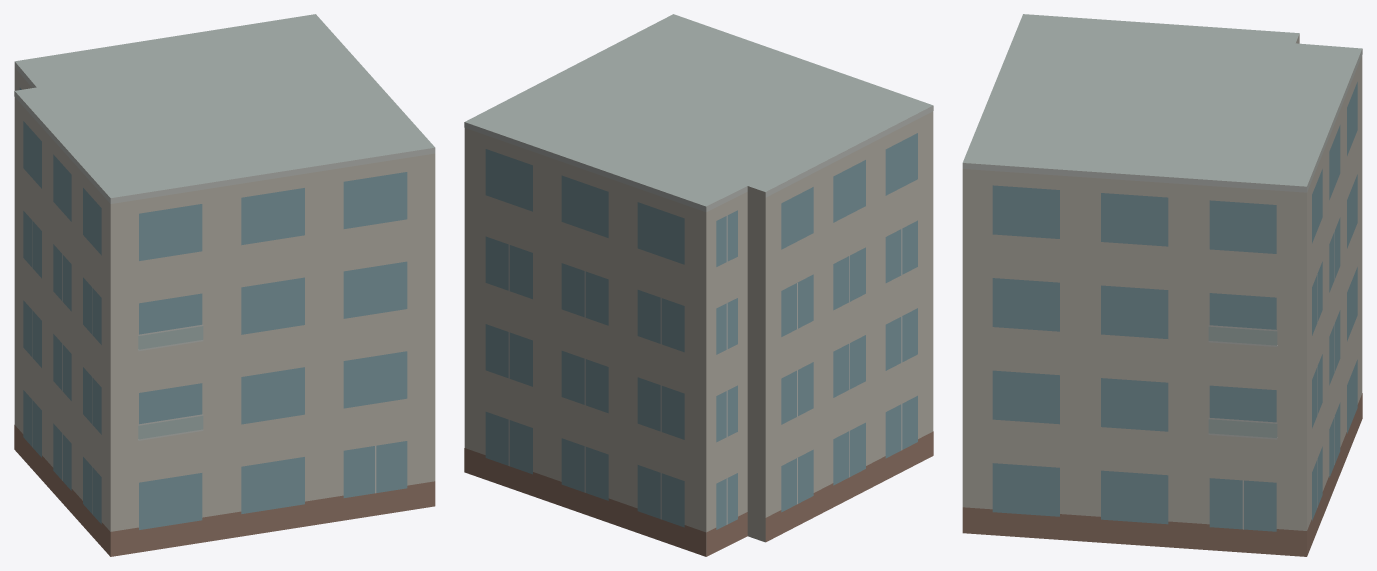
The model's file is survey-upis-32465457.glb.
3 renders of one model, left to right at view 1: azimuth 30°, elevation 25°; view 2: azimuth 150°, elevation 25°; view 3: azimuth 270°, elevation 25°, orthographic. The views are drawn at different scales.
Visible parts, largest first — view 1: survey-upis-32465457.tmp; view 2: survey-upis-32465457.tmp; view 3: survey-upis-32465457.tmp.
Boxes of the visible parts, box(x1,y1,x2,y2) form: survey-upis-32465457.tmp: box(14, 14, 435, 556); survey-upis-32465457.tmp: box(464, 14, 933, 556); survey-upis-32465457.tmp: box(962, 14, 1362, 556).
Bounding box in the file's own units: 14.96 × 14.95 × 14.64.
